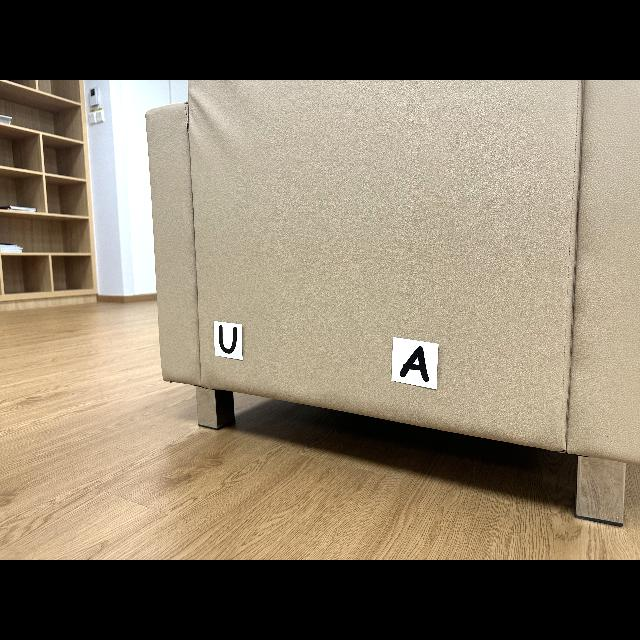A: (400, 346, 429, 381)
U: (219, 325, 238, 354)
